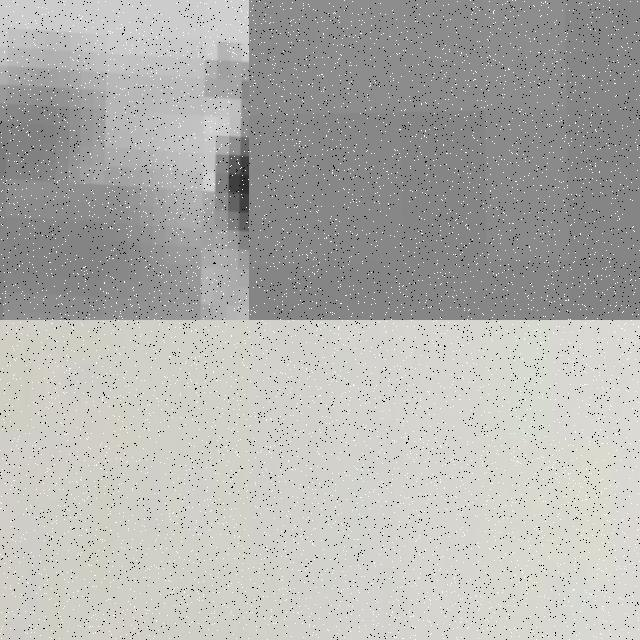drone: (249, 320, 640, 640), (0, 0, 249, 320)
